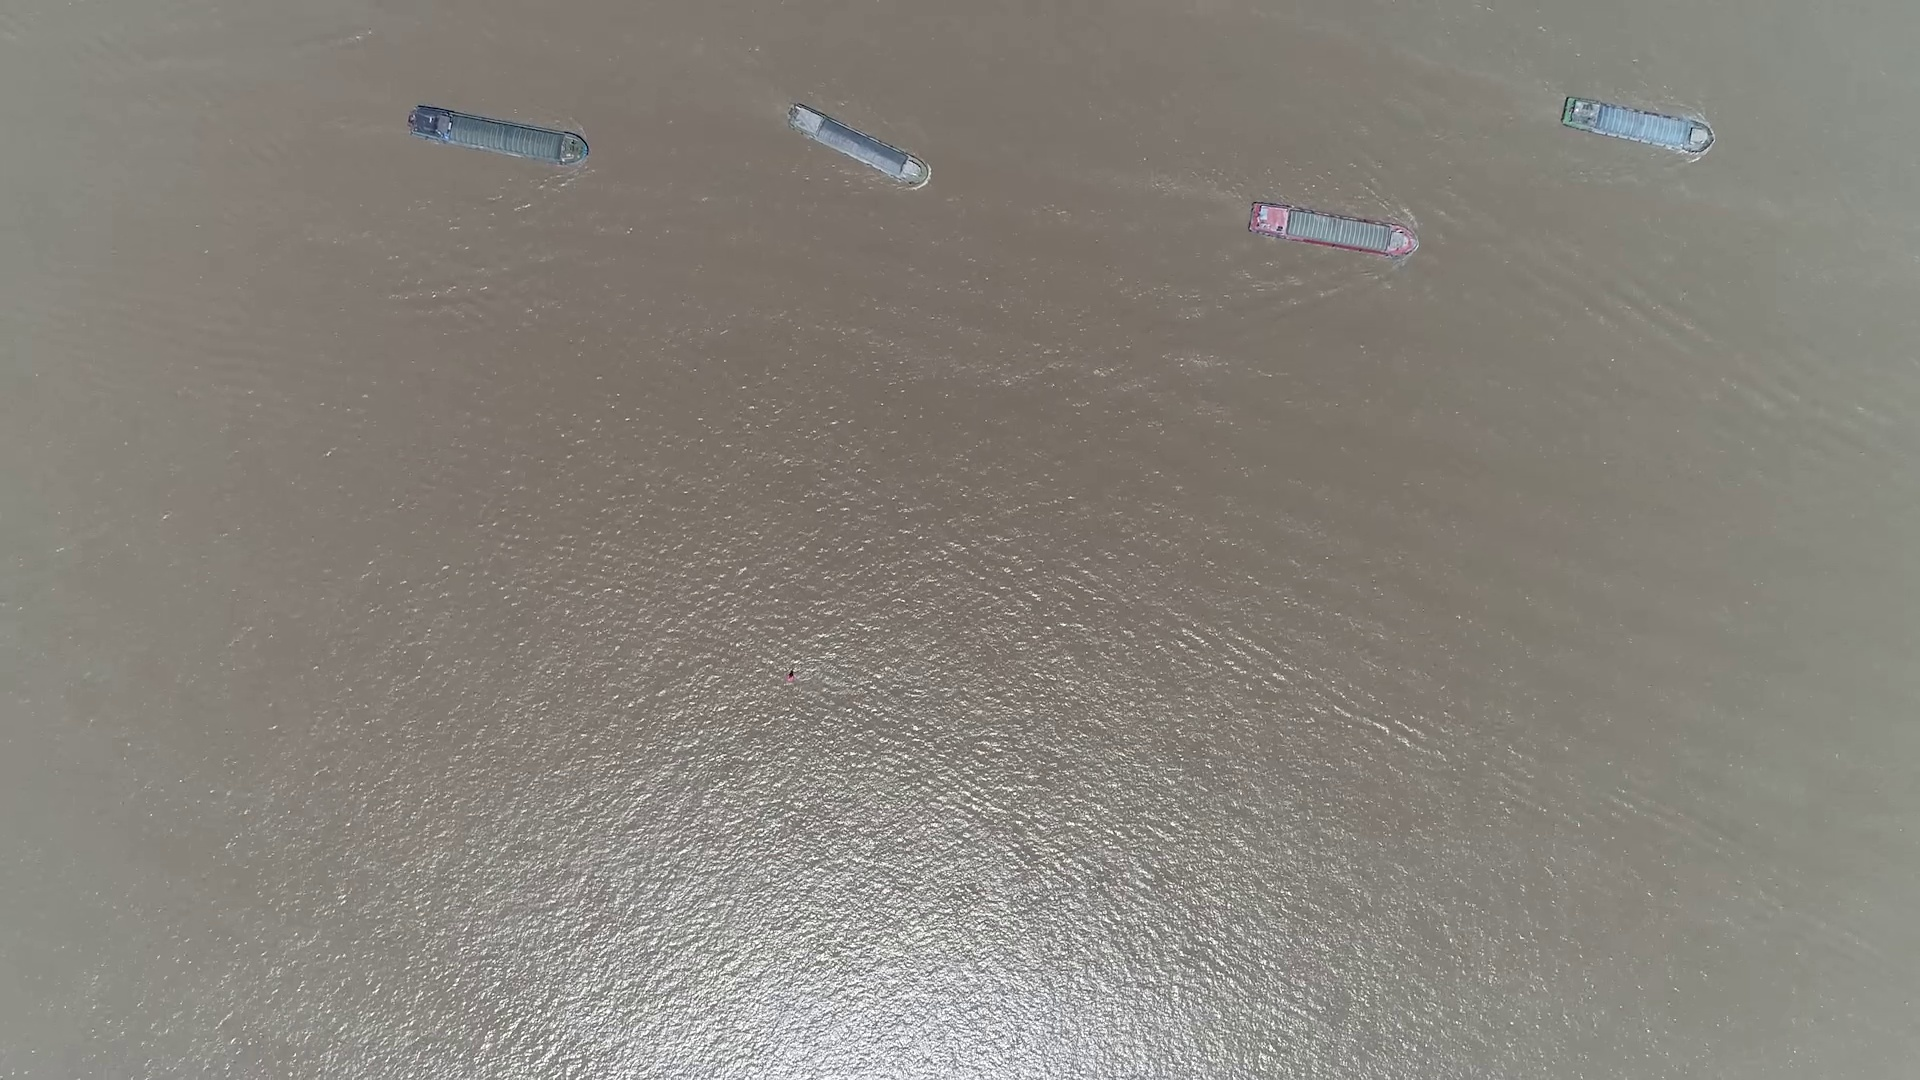ship: (407, 107, 588, 167), (787, 108, 928, 185), (1246, 203, 1418, 258), (1560, 100, 1712, 152)
